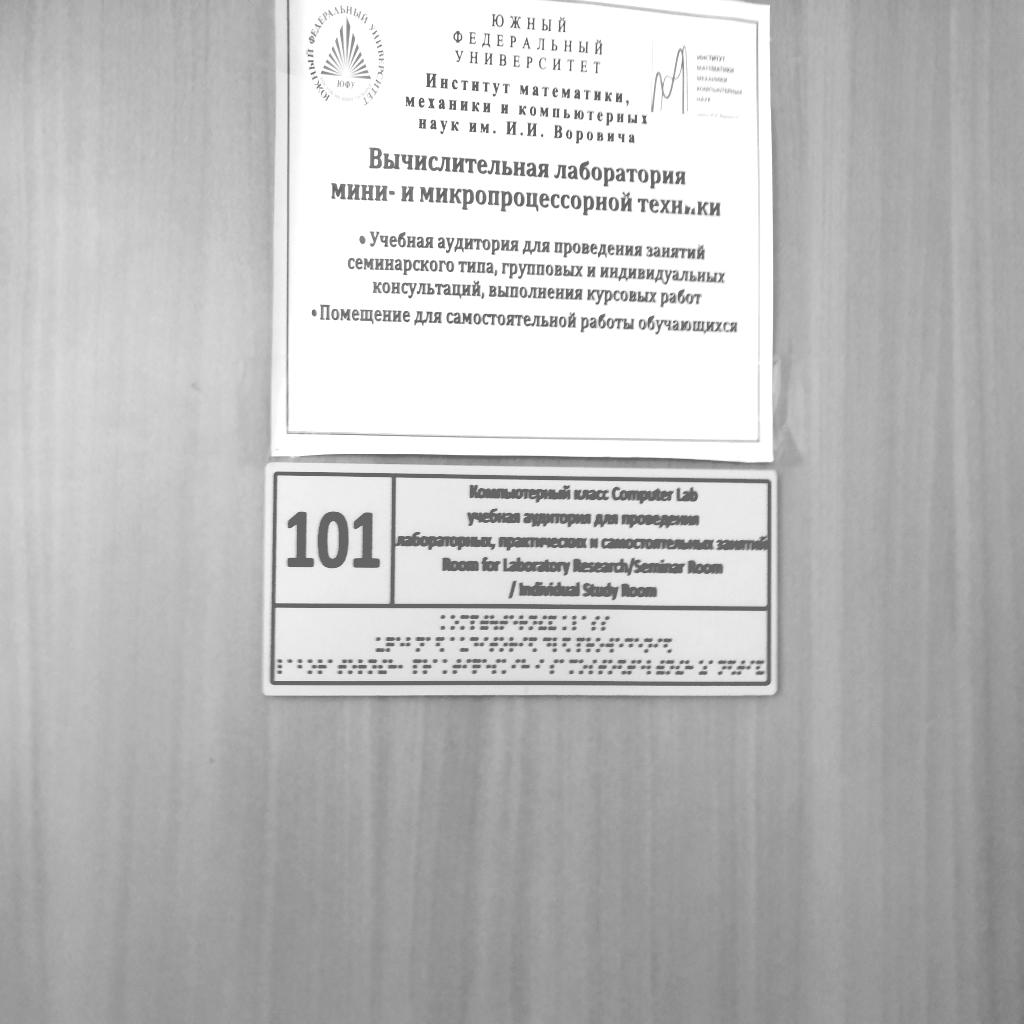_n: (644, 637, 653, 654), (666, 660, 675, 676), (529, 615, 537, 632), (368, 658, 376, 675), (416, 636, 424, 652), (718, 659, 726, 675)
_y: (460, 636, 469, 653), (376, 635, 384, 653)
a: (582, 614, 591, 631), (450, 637, 459, 653), (328, 658, 337, 674), (708, 659, 717, 675), (426, 635, 434, 652), (287, 659, 296, 674), (433, 659, 441, 674), (560, 659, 568, 674)
b: (406, 636, 415, 653), (297, 659, 307, 674)
ch: (386, 636, 395, 653), (473, 658, 482, 675)
d: (470, 636, 479, 653), (543, 637, 551, 653), (625, 637, 633, 653)
e: (396, 635, 405, 652), (510, 613, 518, 631), (615, 637, 624, 653), (635, 637, 644, 653), (482, 659, 491, 675), (637, 659, 646, 674)
i: (480, 636, 489, 653), (511, 658, 520, 675), (536, 658, 545, 675), (519, 636, 528, 652), (746, 660, 755, 676), (654, 637, 662, 653), (463, 658, 471, 674)
iKratkoe: (755, 660, 765, 676), (549, 614, 557, 631)
ii: (378, 659, 387, 675), (676, 660, 685, 676), (539, 614, 547, 631)
k: (562, 615, 571, 632), (443, 659, 452, 675), (502, 658, 511, 674), (441, 614, 448, 631)
l: (277, 659, 287, 675), (572, 614, 581, 631), (647, 659, 656, 675), (553, 637, 561, 652)
m: (569, 659, 577, 675), (461, 614, 468, 632)
myagkiy: (480, 613, 488, 631), (656, 659, 664, 675)
o: (450, 614, 459, 632), (308, 658, 317, 675), (595, 637, 604, 653), (608, 659, 617, 675), (348, 659, 356, 675), (579, 659, 587, 675), (500, 636, 507, 652)
p: (471, 614, 479, 632), (413, 659, 422, 674), (577, 637, 585, 653)
r: (317, 658, 327, 675), (509, 637, 518, 653), (358, 659, 367, 675), (519, 614, 527, 631), (423, 659, 431, 675), (587, 637, 594, 653)
s: (601, 615, 610, 632), (492, 659, 501, 675), (589, 659, 598, 675), (592, 614, 600, 631), (550, 659, 558, 675)
t: (338, 658, 347, 675), (500, 613, 508, 631), (598, 659, 607, 675), (490, 636, 498, 653), (453, 658, 461, 674), (627, 659, 635, 674), (738, 660, 746, 675)
u: (490, 613, 498, 631)
v: (606, 637, 615, 653)
x: (521, 658, 531, 675), (388, 658, 397, 675), (685, 659, 694, 675)
ya: (436, 636, 445, 654), (562, 637, 571, 653), (617, 659, 626, 675), (728, 660, 737, 676), (664, 637, 672, 654), (529, 637, 537, 653)
z: (699, 660, 707, 675)
zapyataya: (398, 658, 407, 674)
